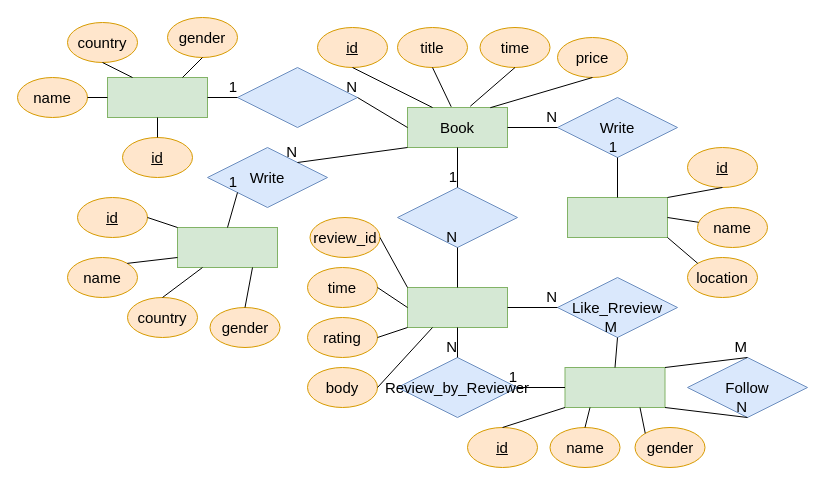
The diagram is 825 pixels wide and 485 high, and some of its shapes have lost their labels. Here are the shapes that lost their labels. From the top down, the box of each, then its label:
(106, 76, 208, 118): Translator
(236, 66, 358, 128): Translate
(396, 186, 518, 248): Review_on_Book
(566, 196, 668, 238): Press
(176, 226, 278, 268): Author
(406, 286, 508, 328): Review
(564, 366, 665, 408): Reviewer
